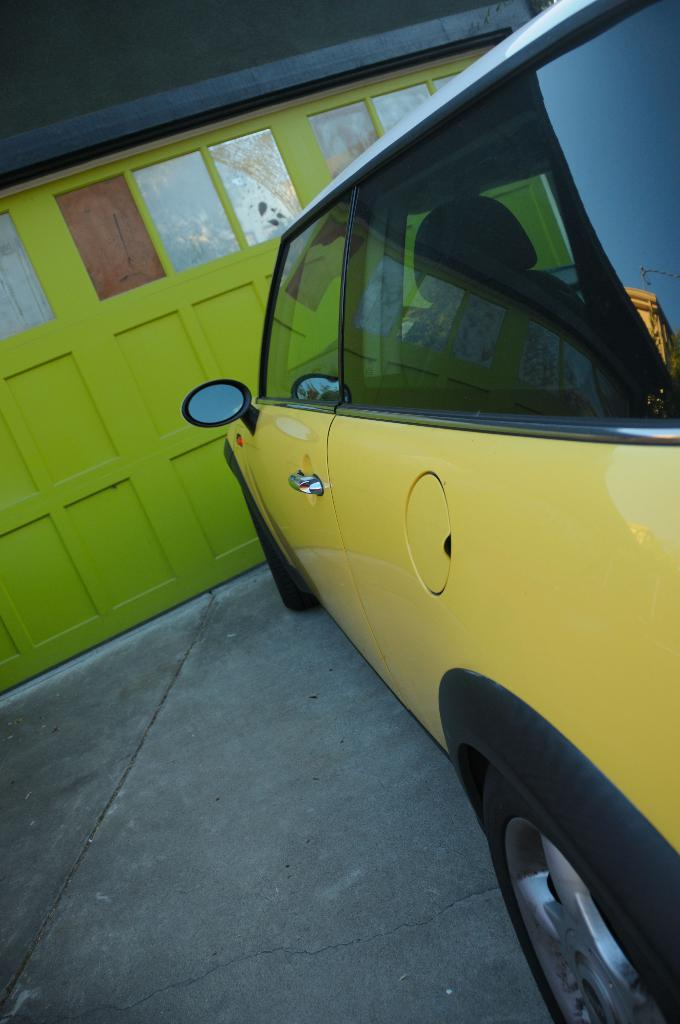Car: (179, 0, 679, 1020)
